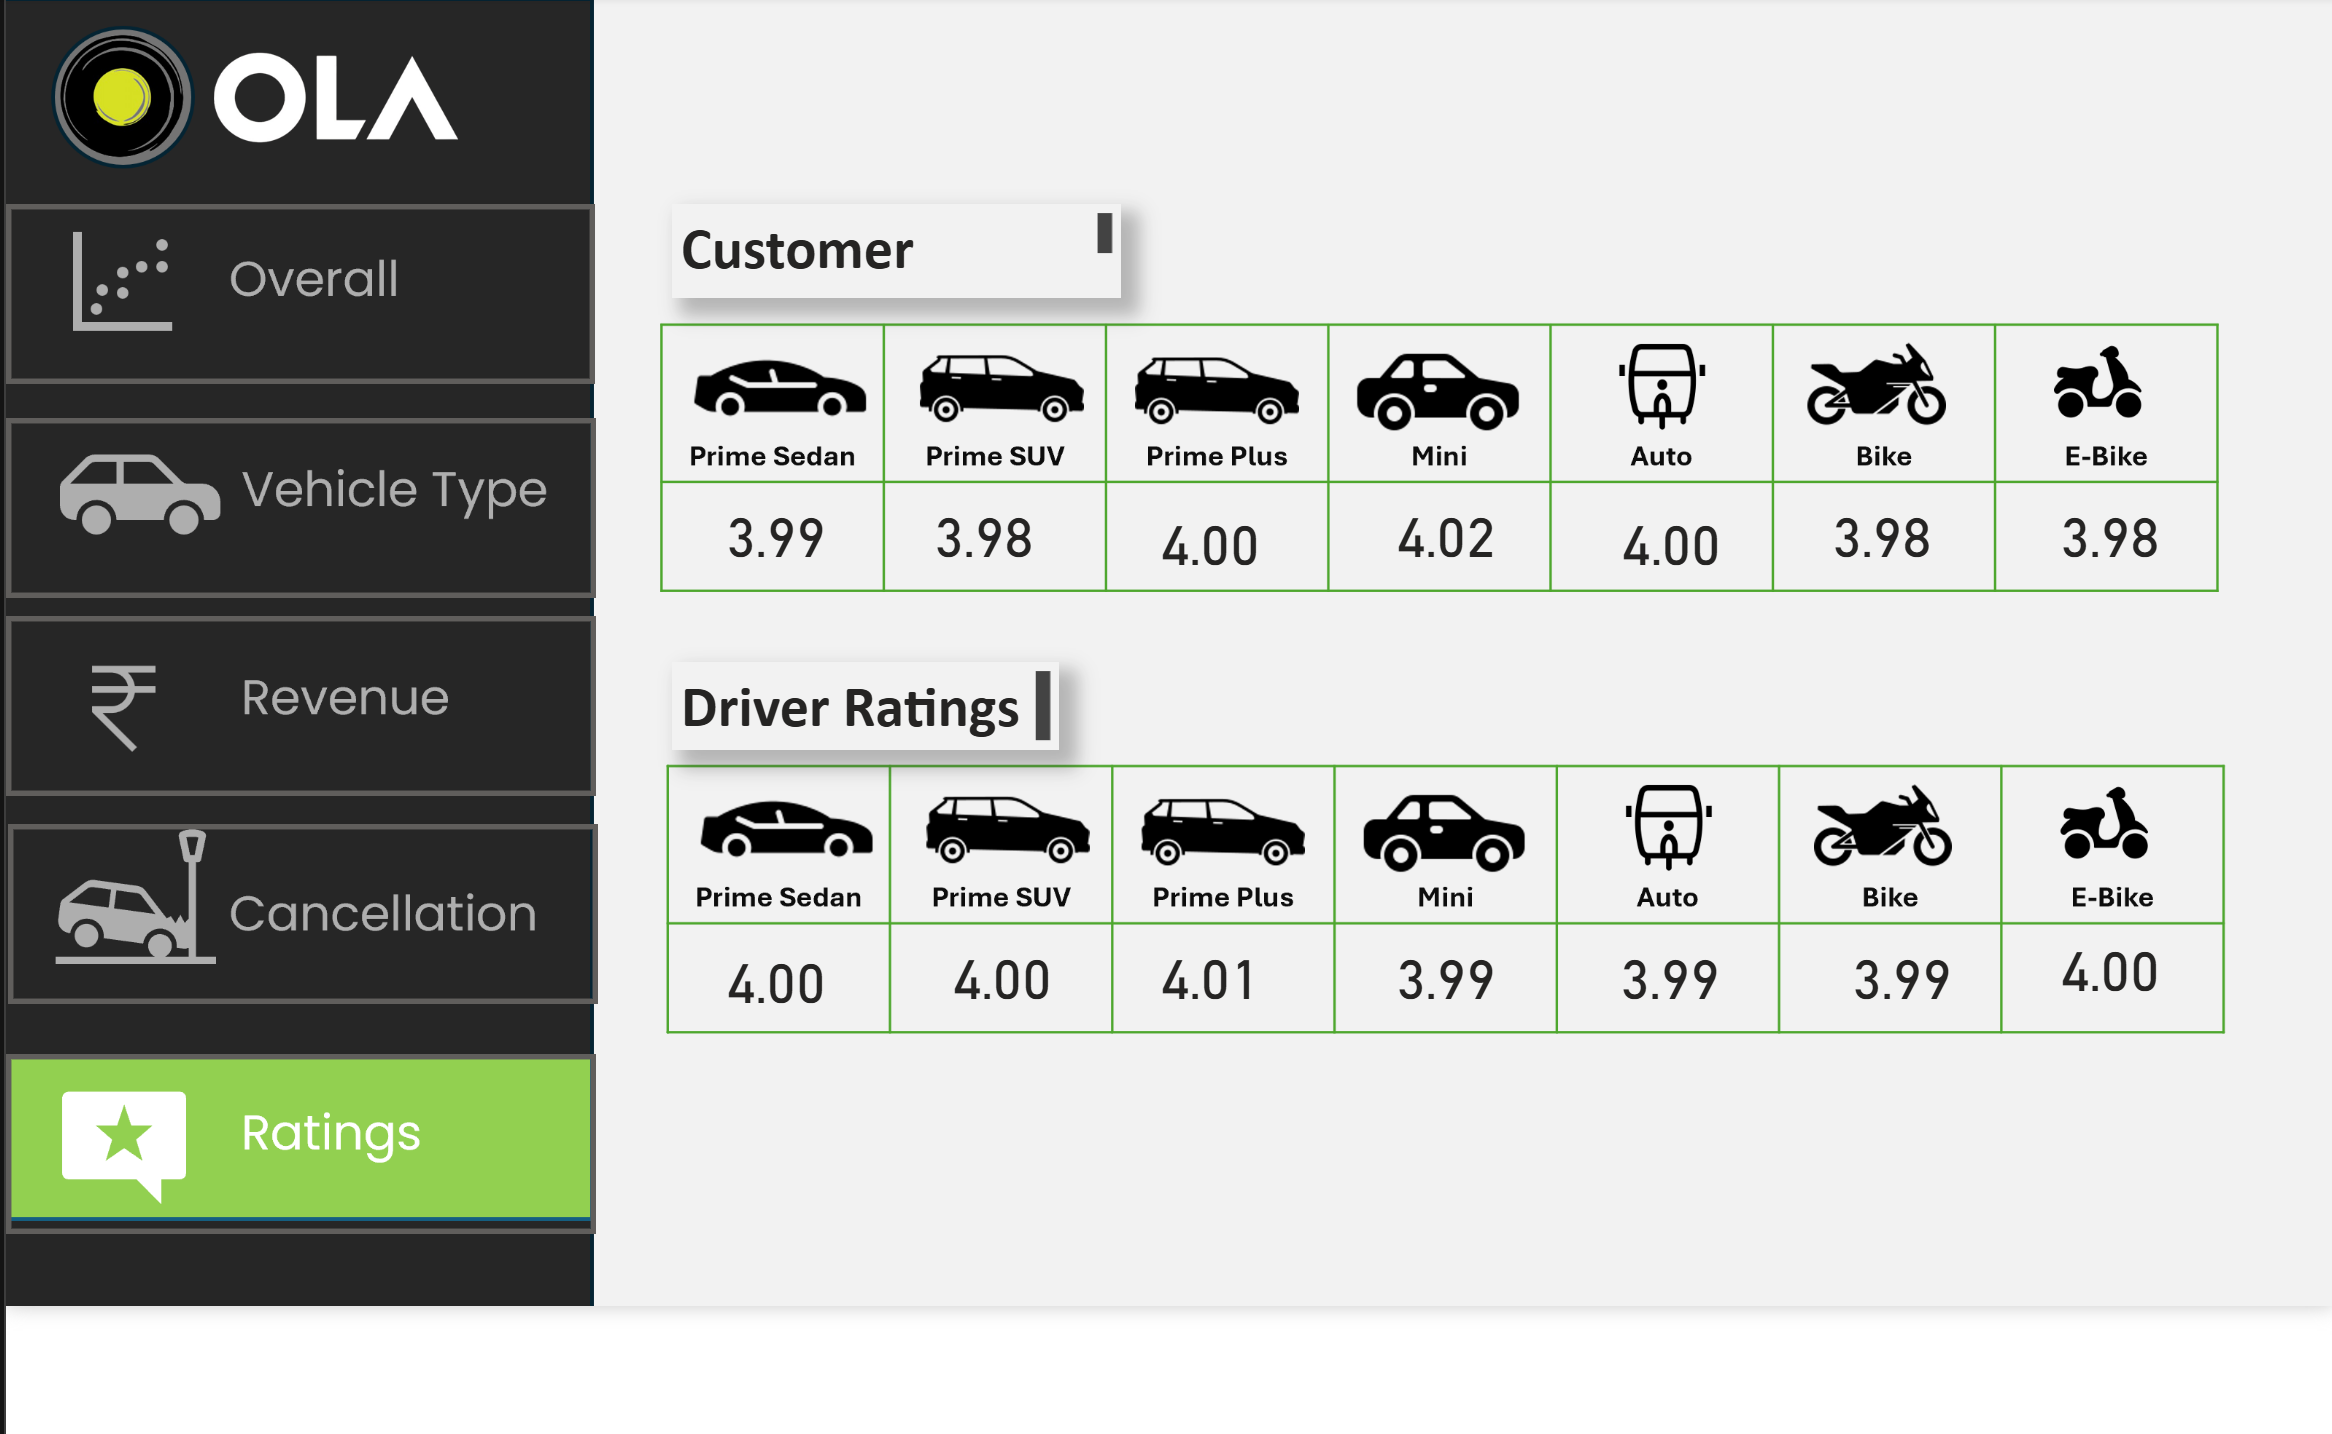

This screenshot's page, from the dashboard's own definition file:
{"tool":"powerbi","page":{"name":"Ratings","canvas":[1280,720],"ordinal":4},"visuals":[{"type":"actionButton","box":[0,114.4,323.9,99],"z":0},{"type":"actionButton","box":[0,232,324.4,99],"z":1000},{"type":"actionButton","box":[0,340.9,324.4,99],"z":2000},{"type":"actionButton","box":[1.1,455.3,324.4,99],"z":3000},{"type":"actionButton","box":[0,581.7,324.4,99],"z":4000},{"type":"card","fields":{"Values":["Avg(OLA.Customer_Rating)"]},"box":[366.1,269.2,114.4,52.5],"z":5000},{"type":"card","fields":{"Values":["Avg(OLA.Customer_Rating)"]},"box":[480.5,269.2,114.4,52.5],"z":6000},{"type":"card","fields":{"Values":["Avg(OLA.Customer_Rating)"]},"box":[1100,269.4,114.3,52.6],"z":6001},{"type":"card","fields":{"Values":["Avg(OLA.Customer_Rating)"]},"box":[973.8,269.4,114.3,52.6],"z":6002},{"type":"card","fields":{"Values":["Avg(OLA.Customer_Rating)"]},"box":[858.2,273.3,115.6,52.6],"z":6003},{"type":"card","fields":{"Values":["Avg(OLA.Customer_Rating)"]},"box":[734.6,269.4,114.3,52.6],"z":6004},{"type":"card","fields":{"Values":["Avg(OLA.Customer_Rating)"]},"box":[604.5,273.3,114.3,52.6],"z":6005},{"type":"textbox","box":[366.7,114.3,247.1,51.3],"z":6006},{"type":"textbox","box":[366.7,366.7,212.9,48.6],"z":6007},{"type":"card","fields":{"Values":["Avg(OLA.Driver_Ratings)"]},"box":[366.7,515.2,114.3,52.6],"z":6008},{"type":"card","fields":{"Values":["Avg(OLA.Driver_Ratings)"]},"box":[1100,508.6,114.3,52.6],"z":6009},{"type":"card","fields":{"Values":["Avg(OLA.Driver_Ratings)"]},"box":[985.6,512.5,114.3,52.6],"z":6010},{"type":"card","fields":{"Values":["Avg(OLA.Driver_Ratings)"]},"box":[858.2,512.5,114.3,52.6],"z":6011},{"type":"card","fields":{"Values":["Avg(OLA.Driver_Ratings)"]},"box":[734.6,512.5,114.3,52.6],"z":6012},{"type":"card","fields":{"Values":["Avg(OLA.Driver_Ratings)"]},"box":[604.5,512.5,114.3,52.6],"z":6013},{"type":"card","fields":{"Values":["Avg(OLA.Driver_Ratings)"]},"box":[490.2,512.5,114.3,52.6],"z":6014}]}

Visuals, with their boxes on the page's 1280x720 design canvas (x1, y1, x2, y2). These are canvas units, not pixel positions in the 2332x1434 screenshot, which may show the page scaled, cropped or inside an application window:
actionButton: (0,114,324,213)
actionButton: (0,232,324,331)
actionButton: (0,341,324,440)
actionButton: (1,455,326,554)
actionButton: (0,582,324,681)
card - Avg(OLA.Customer_Rating): (366,269,480,322)
card - Avg(OLA.Customer_Rating): (480,269,595,322)
card - Avg(OLA.Customer_Rating): (1100,269,1214,322)
card - Avg(OLA.Customer_Rating): (974,269,1088,322)
card - Avg(OLA.Customer_Rating): (858,273,974,326)
card - Avg(OLA.Customer_Rating): (735,269,849,322)
card - Avg(OLA.Customer_Rating): (604,273,719,326)
textbox: (367,114,614,166)
textbox: (367,367,580,415)
card - Avg(OLA.Driver_Ratings): (367,515,481,568)
card - Avg(OLA.Driver_Ratings): (1100,509,1214,561)
card - Avg(OLA.Driver_Ratings): (986,512,1100,565)
card - Avg(OLA.Driver_Ratings): (858,512,972,565)
card - Avg(OLA.Driver_Ratings): (735,512,849,565)
card - Avg(OLA.Driver_Ratings): (604,512,719,565)
card - Avg(OLA.Driver_Ratings): (490,512,604,565)
